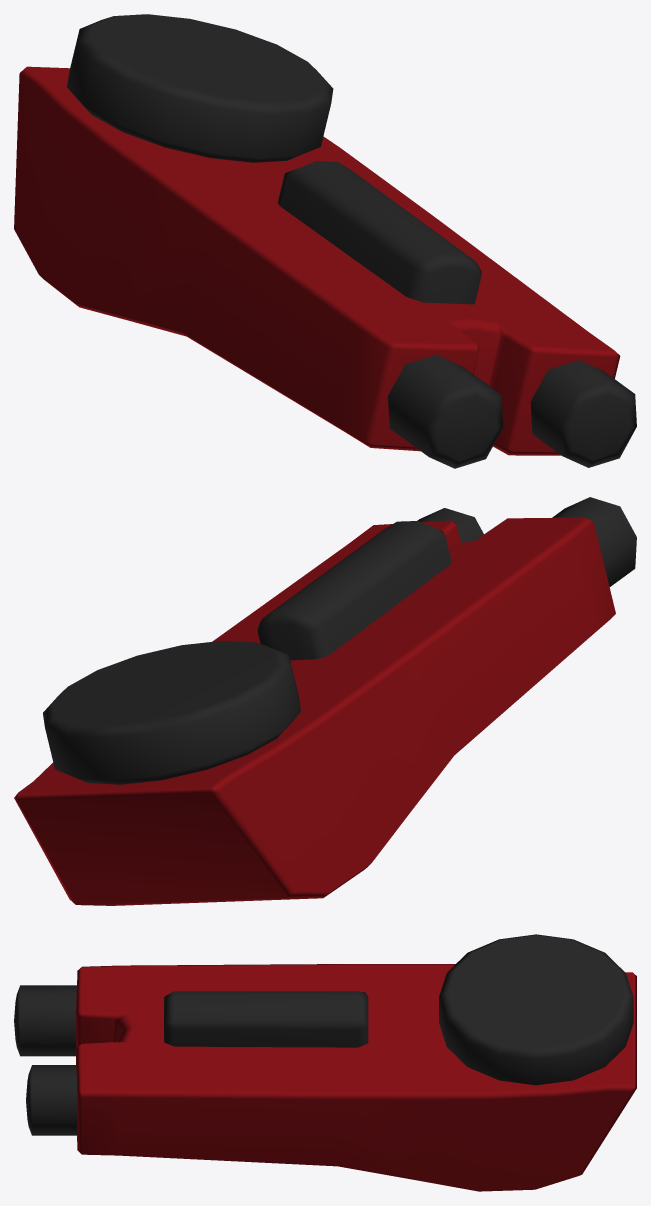
Rendered from Ship_enemy_07_Weapon_L.fbx.
3 views of the same model, one above another, from view 1: azimuth 30°, elevation 25°; view 2: azimuth 150°, elevation 25°; view 3: azimuth 270°, elevation 25° (orthographic). The views are drawn at different scales.
Parts seen in each view (by area): view 1: Ship_enemy_07_Weapon_L; view 2: Ship_enemy_07_Weapon_L; view 3: Ship_enemy_07_Weapon_L.
Boxes of the visible parts, x1,y1,x2,y2 form: Ship_enemy_07_Weapon_L: [14, 14, 636, 468]; Ship_enemy_07_Weapon_L: [14, 497, 636, 905]; Ship_enemy_07_Weapon_L: [14, 934, 636, 1191].
Bounding box in the file's own units: 86.41 × 79.16 × 225.
